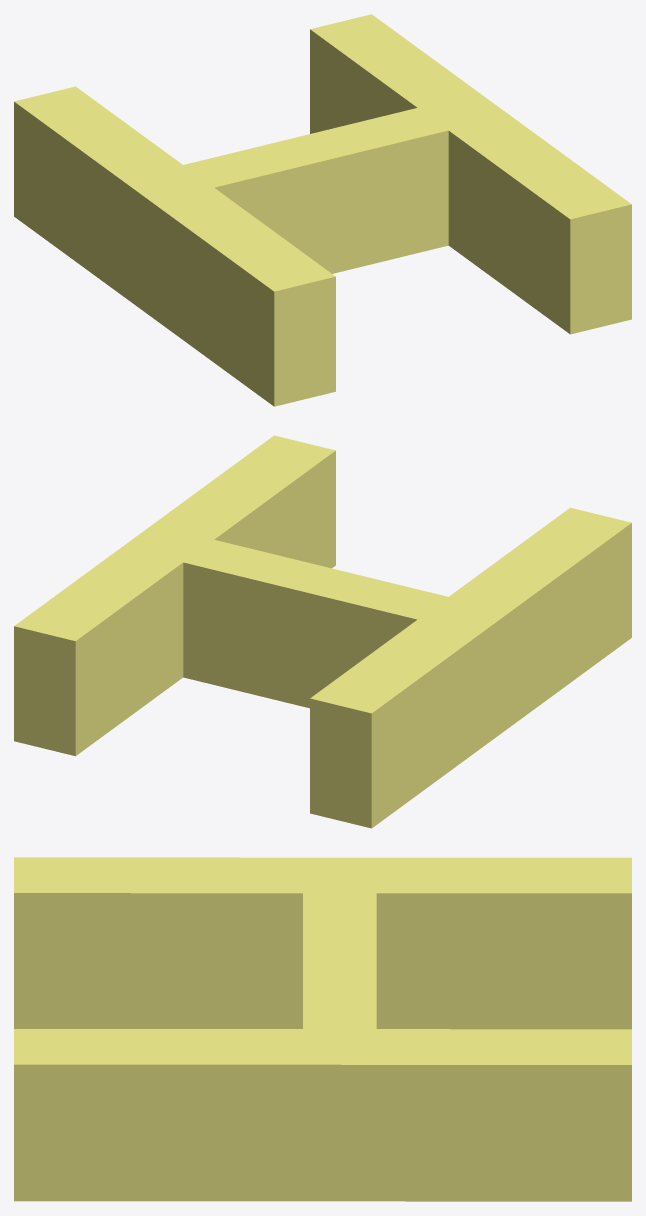
File: MOU-05-24_SoundSticker_PDF_ARAsset-V2.gltf
3 views of the same model, one above another, from view 1: azimuth 30°, elevation 25°; view 2: azimuth 150°, elevation 25°; view 3: azimuth 270°, elevation 25° (orthographic). The views are drawn at different scales.
Visible parts, largest first — view 1: Extrude; view 2: Extrude; view 3: Extrude.
Boxes of the visible parts, box(x1,y1,x2,y2) form: Extrude: box(14, 14, 631, 406); Extrude: box(14, 435, 631, 828); Extrude: box(14, 857, 631, 1201).
Bounding box in the file's own units: 0.753 × 0.2321 × 0.9488.
